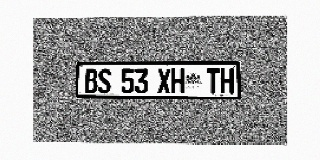3: (135, 69, 148, 94)
5: (121, 69, 134, 94)
B: (85, 69, 97, 93)
H: (220, 68, 234, 94), (171, 68, 184, 94)
S: (98, 69, 111, 93)
T: (206, 68, 220, 94)
X: (157, 69, 171, 94)
